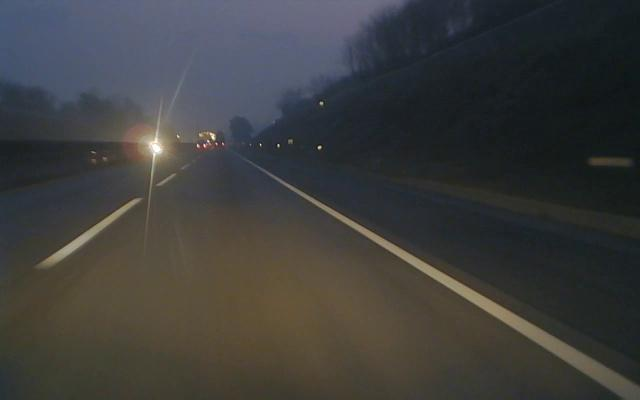lane: (268, 173, 640, 400), (38, 173, 177, 269)
